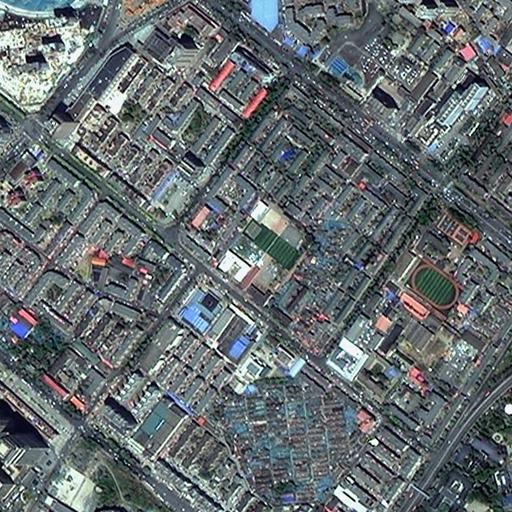school: (388, 207, 474, 322), (232, 197, 312, 306)
